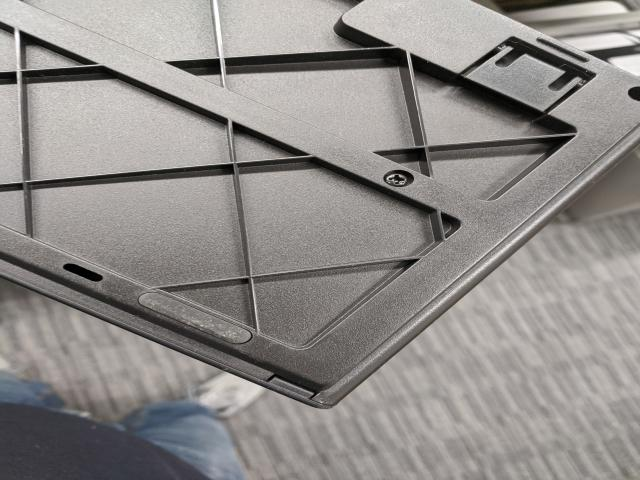CRS: (384, 173, 409, 185)
